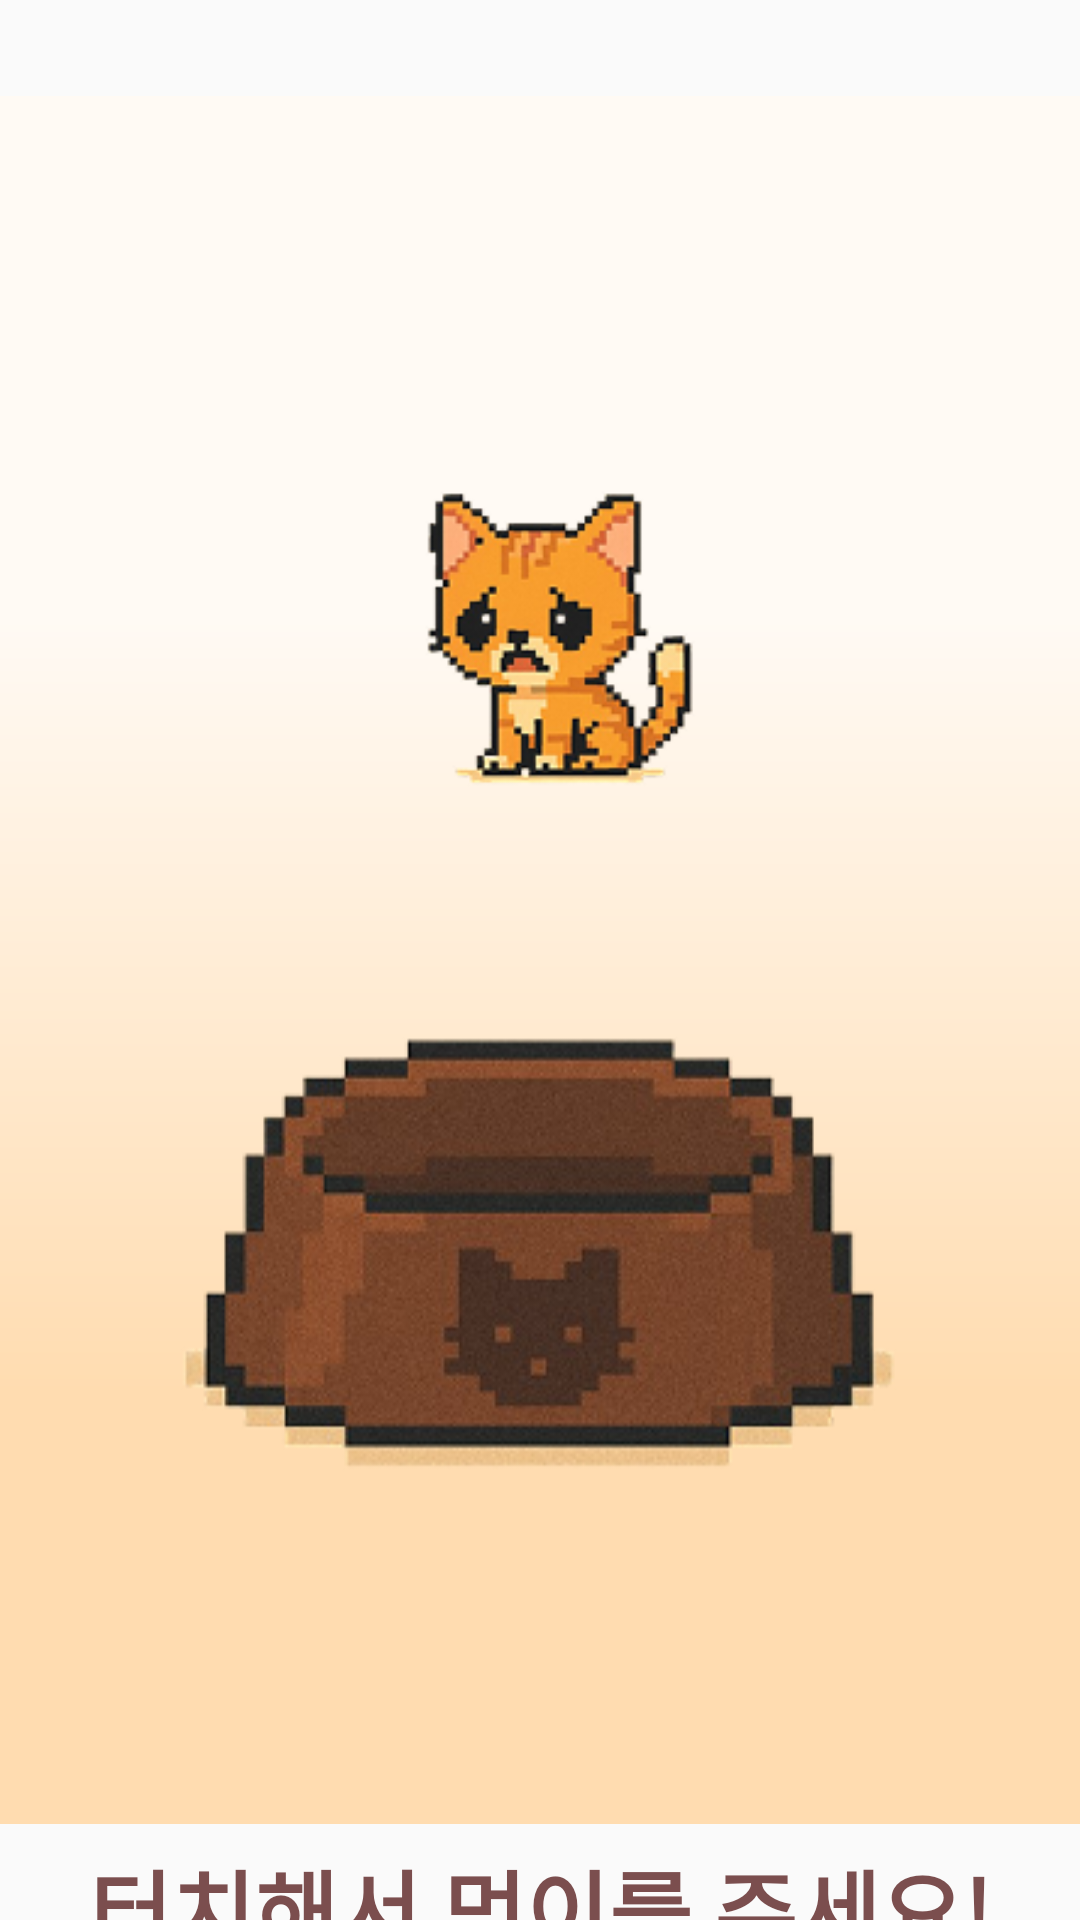

Locate icon controls on the screen. Image size 1080w x 1920h, boxes as (x1, y1, x2, y2).
missioncat: (427, 493, 693, 784)
